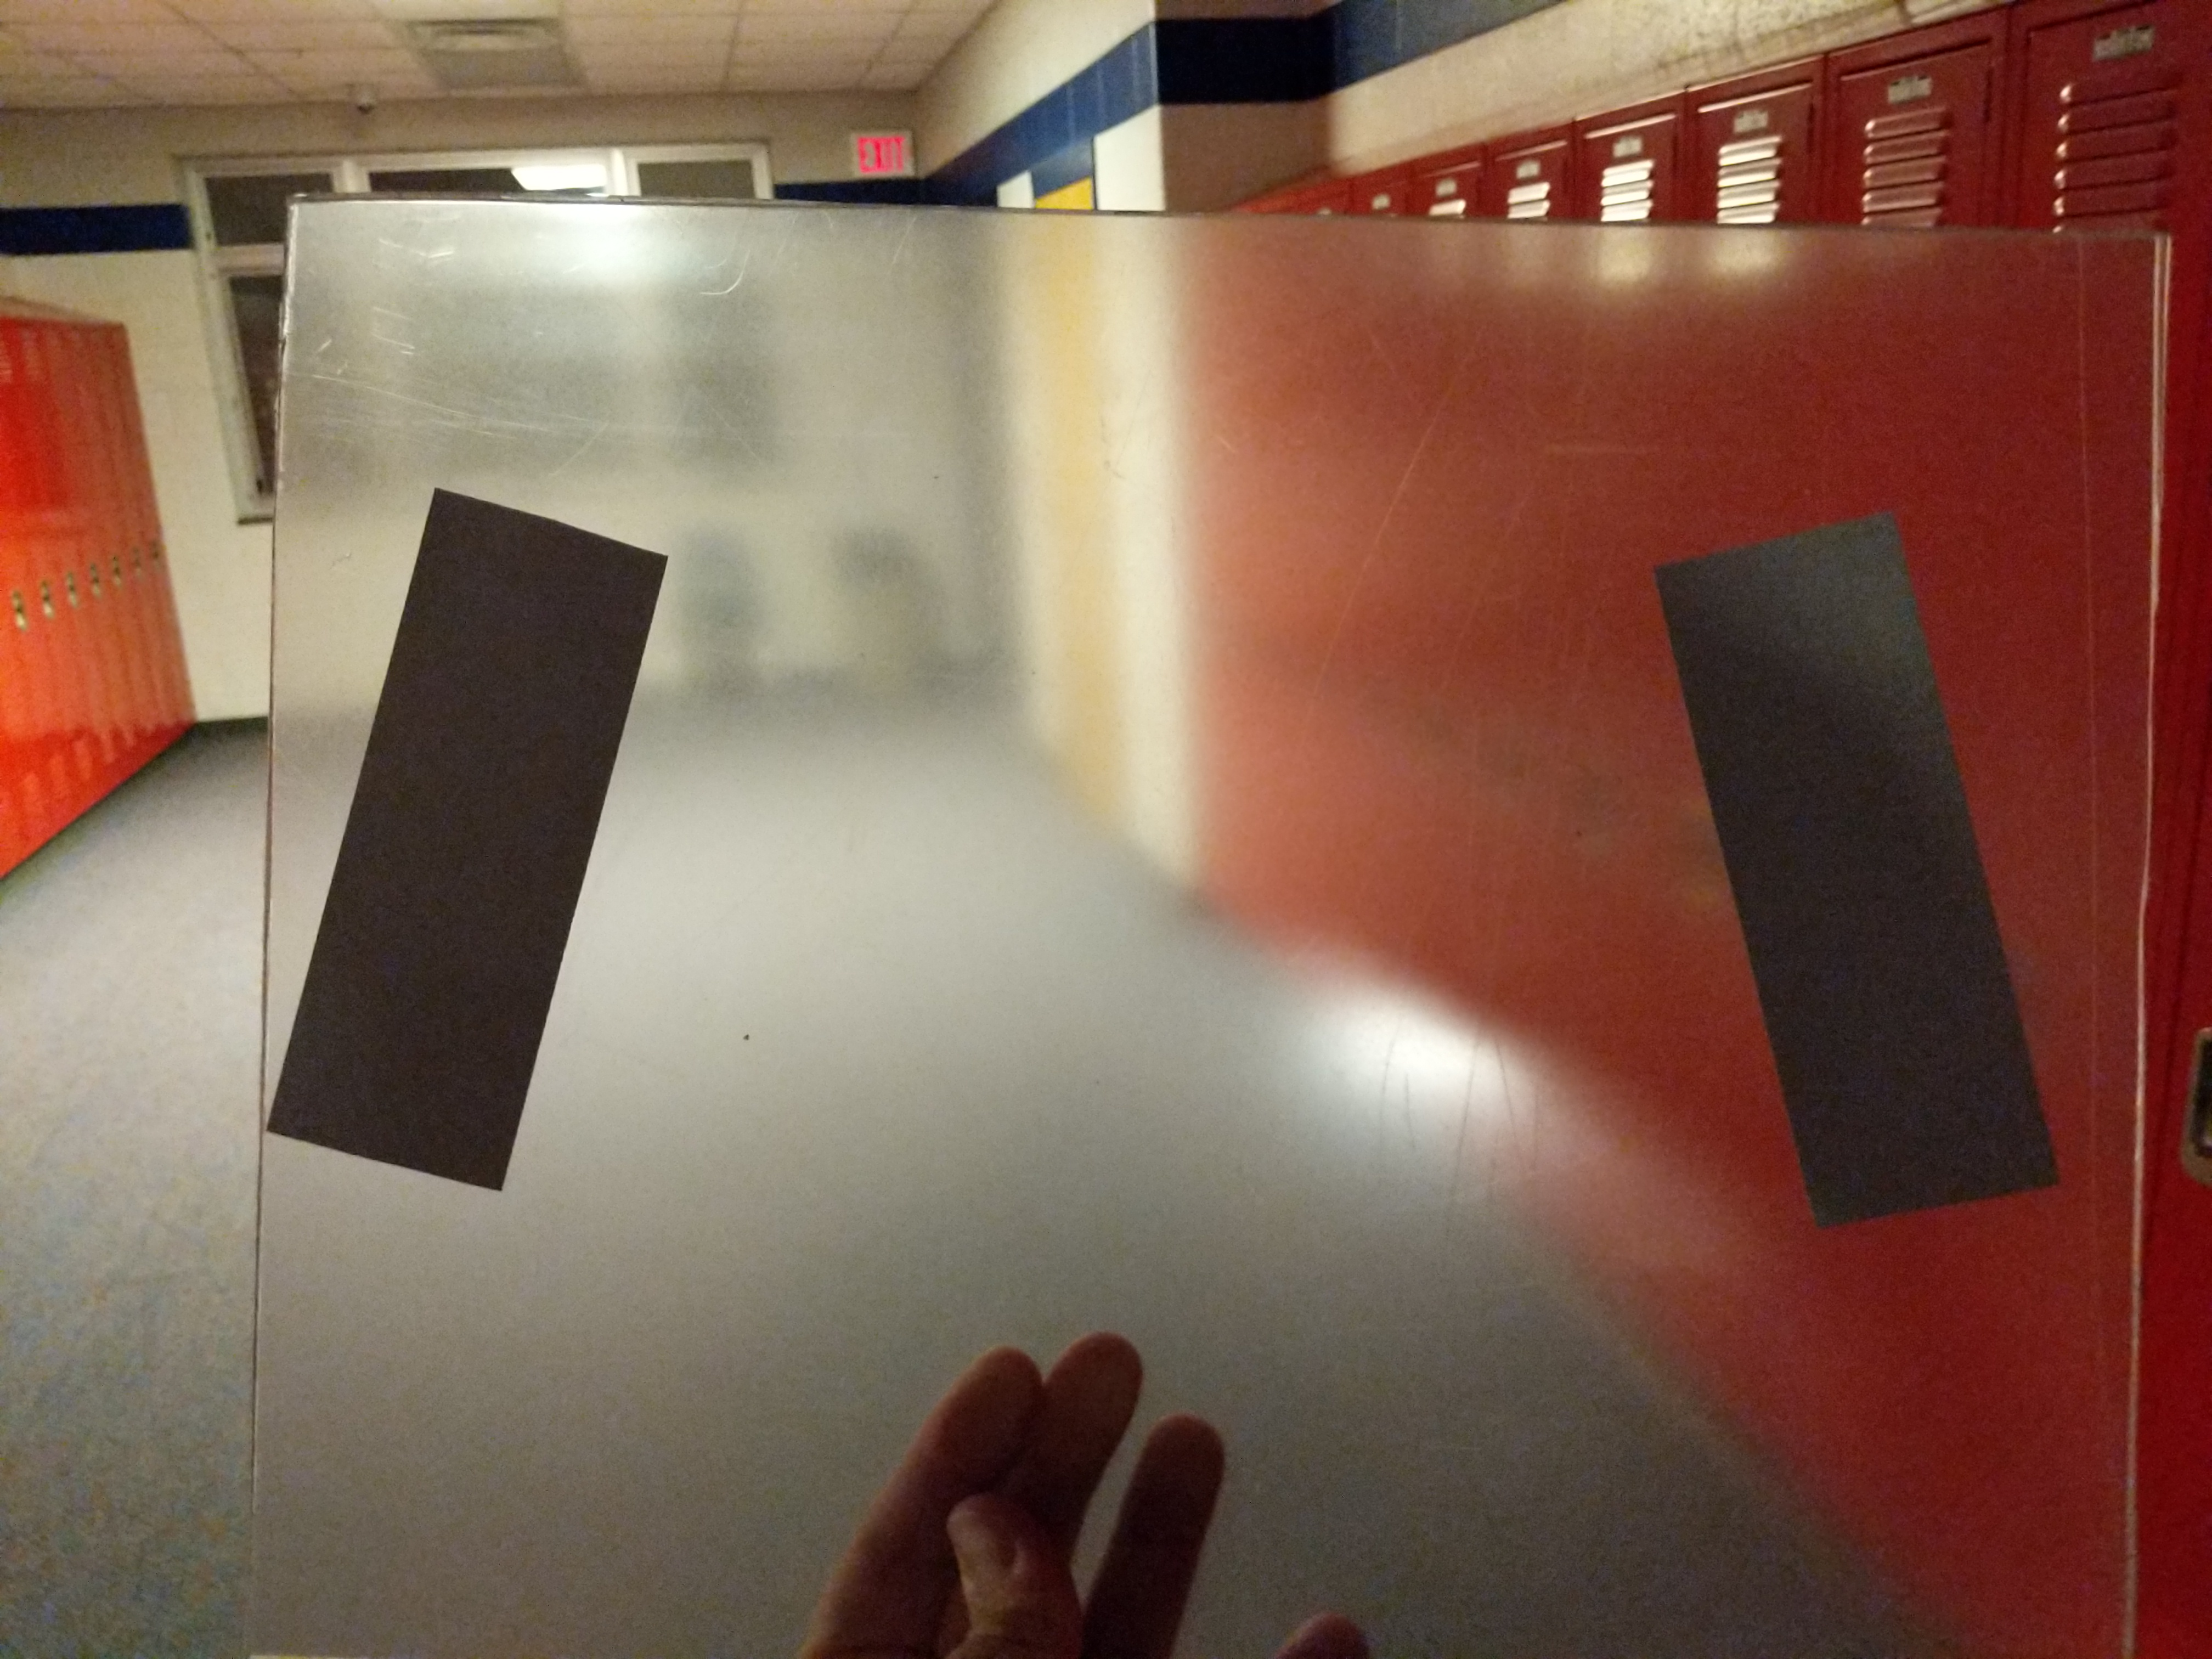vision_target: (261, 471, 2087, 1249)
